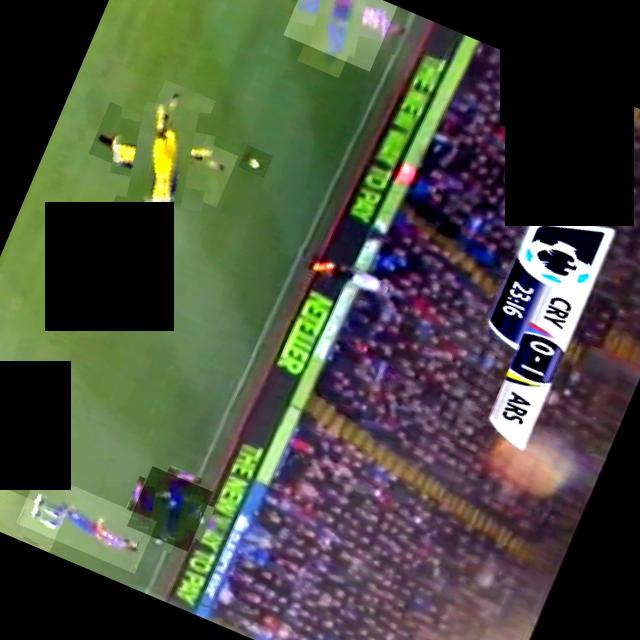ball: (238, 144, 273, 176)
soccer-player: (93, 84, 233, 223), (16, 470, 157, 572), (283, 0, 397, 70), (126, 464, 212, 550), (0, 484, 65, 552)
